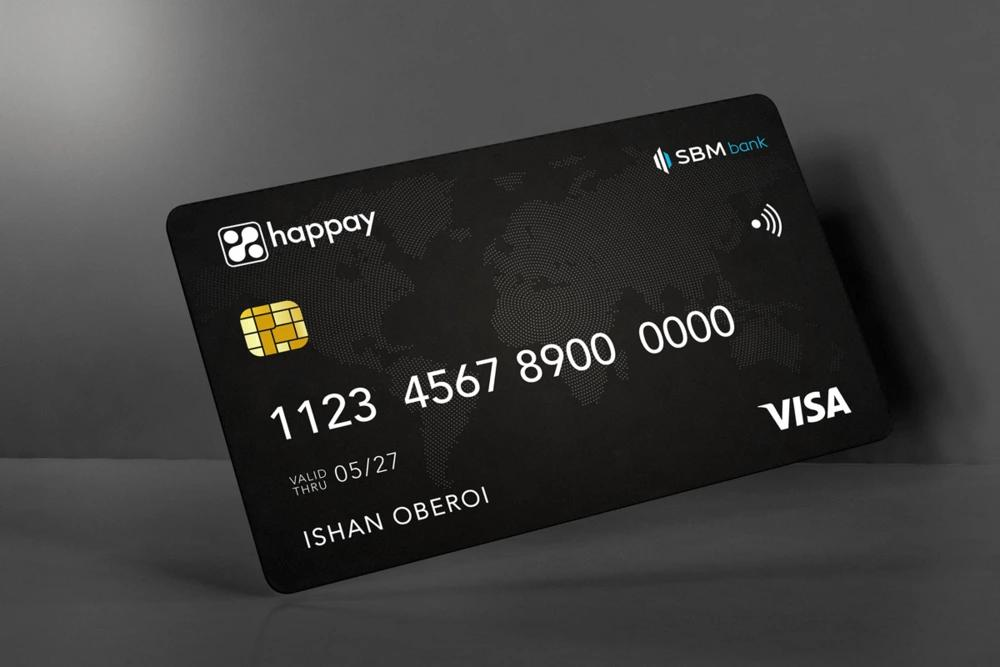Credit_card: (167, 95, 885, 592)
